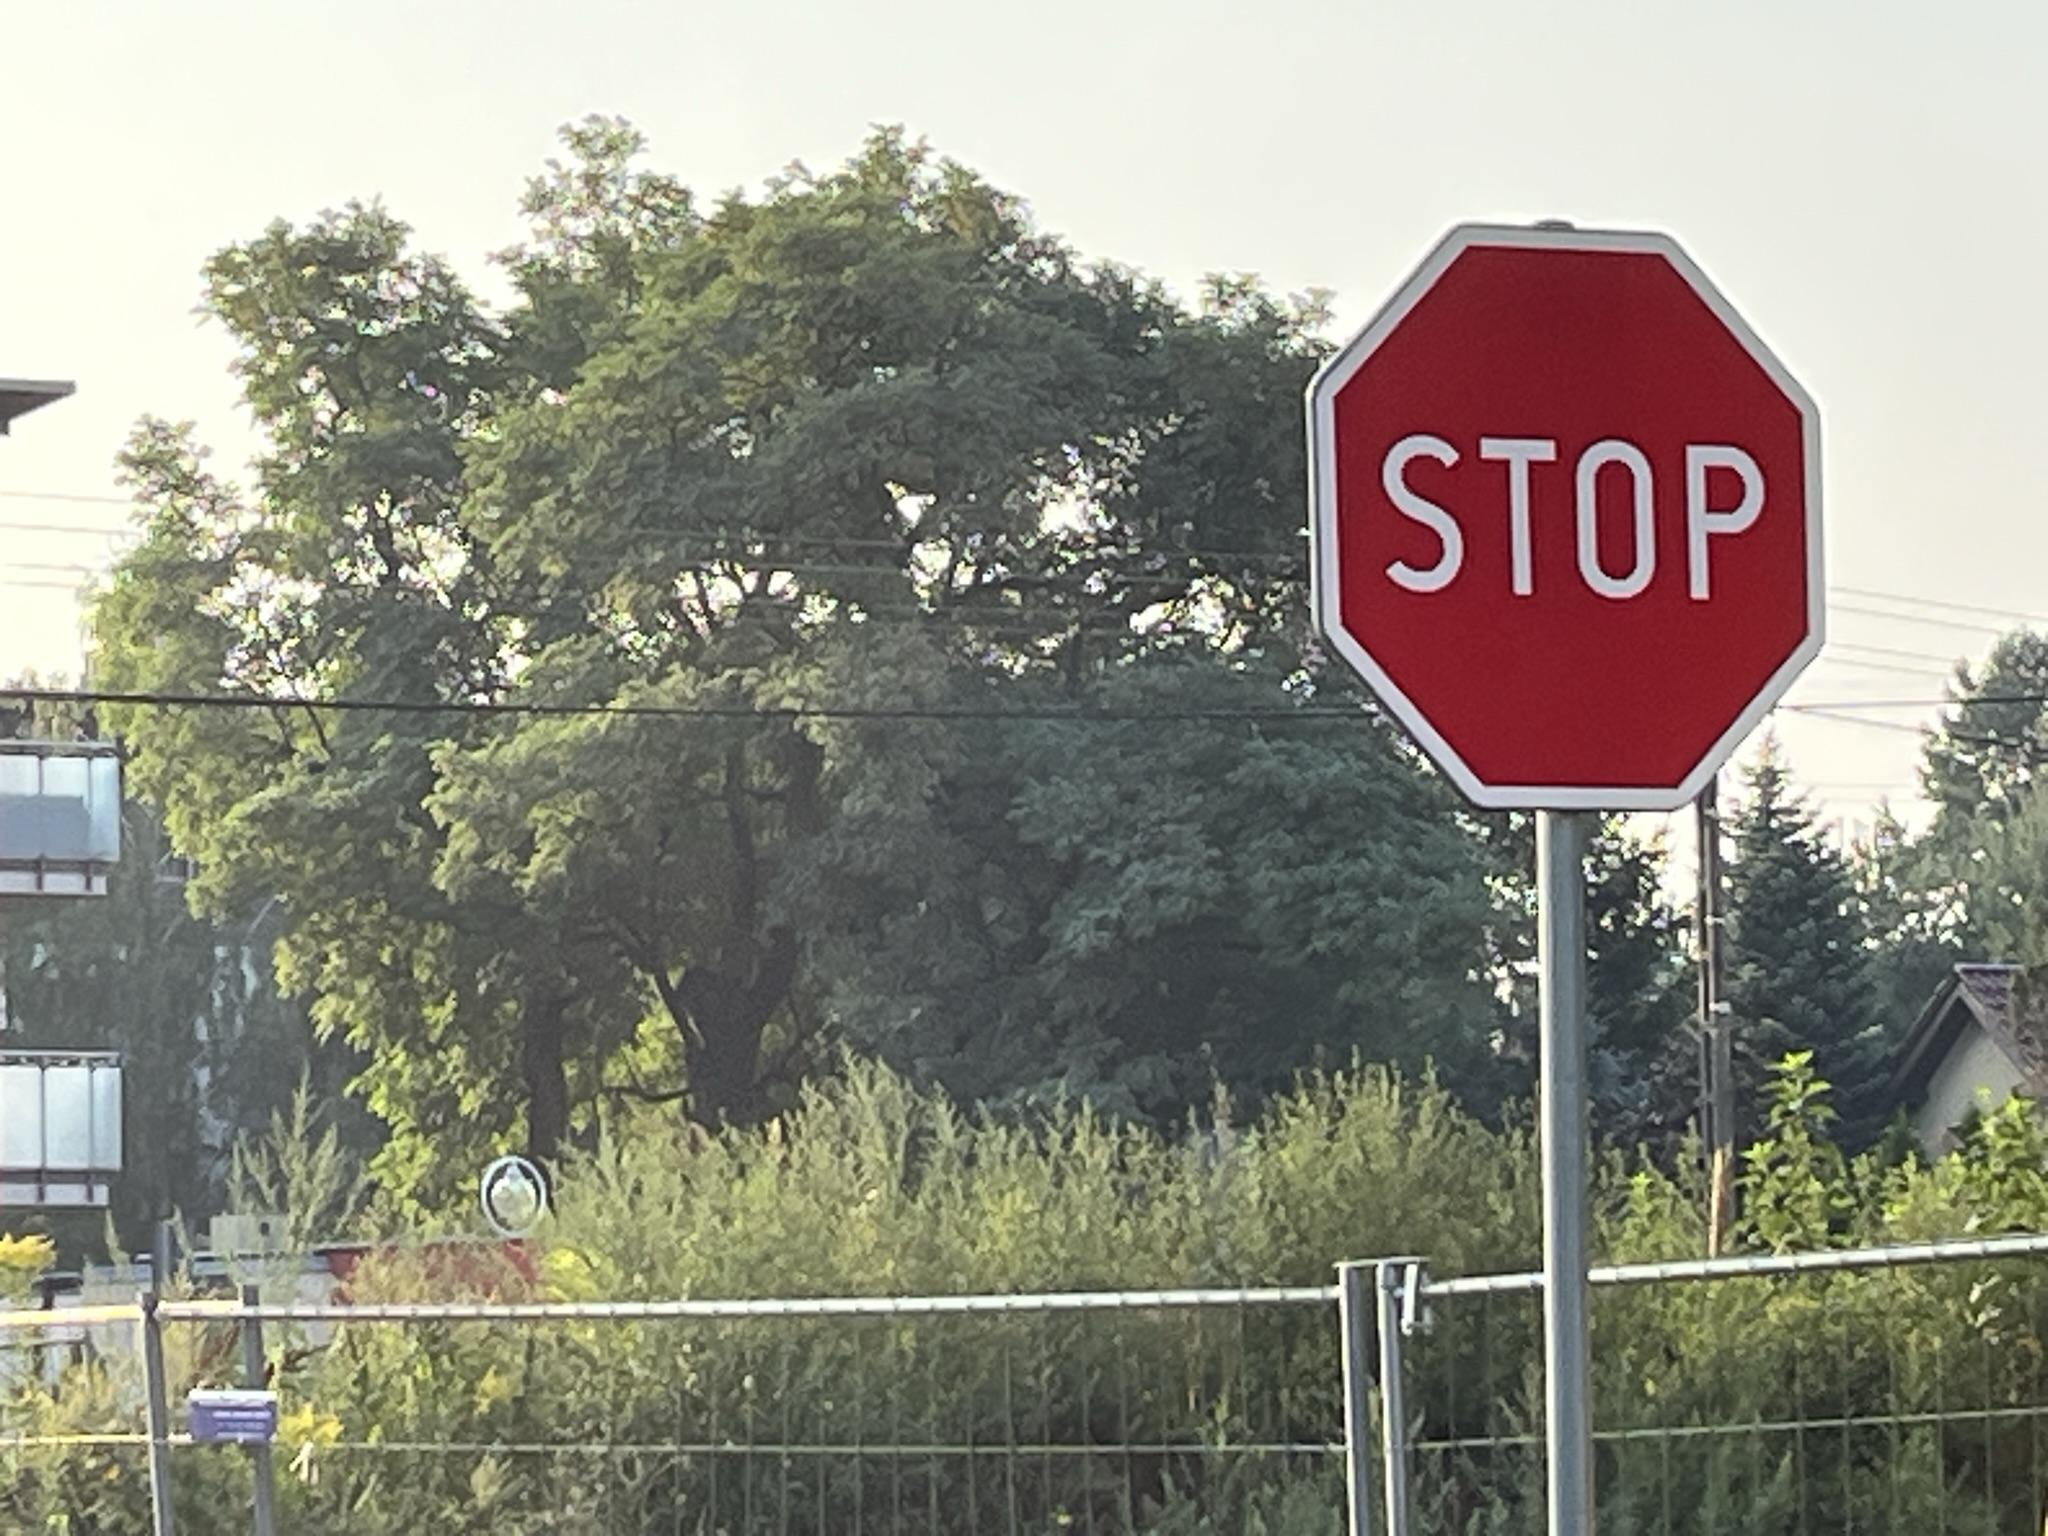prohibitory: (1308, 219, 1829, 810)
